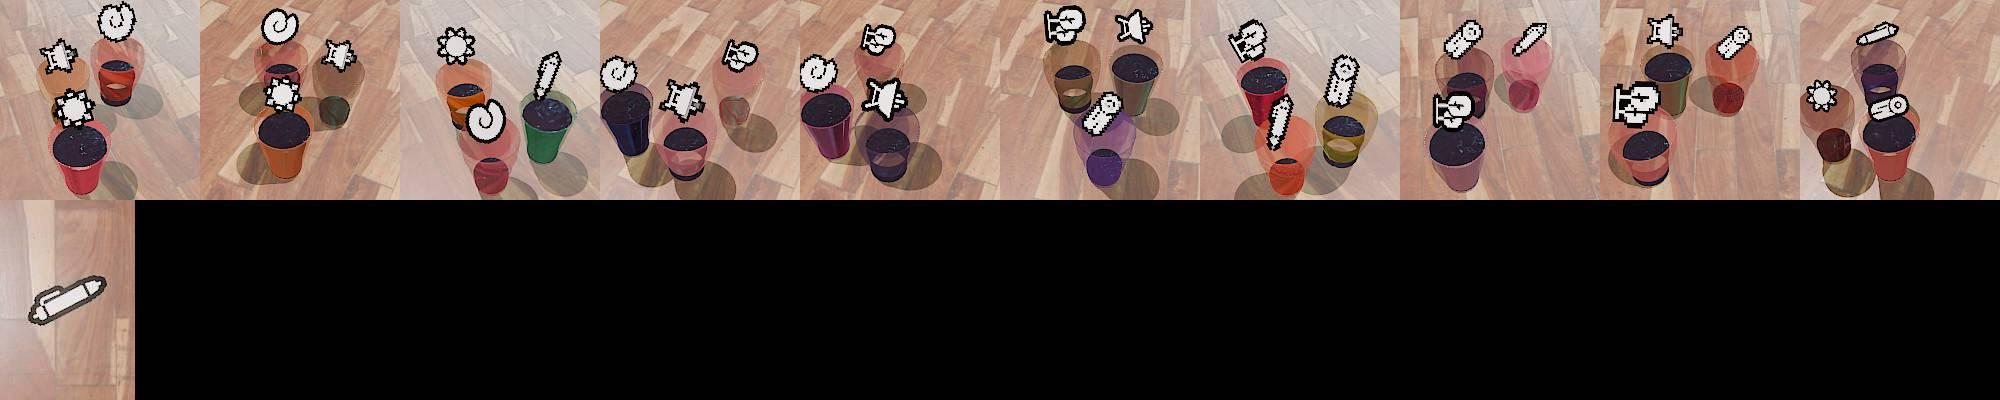icon: (25, 271, 110, 329), (1612, 81, 1662, 126), (860, 75, 907, 122), (1079, 89, 1124, 136), (658, 76, 705, 121), (1324, 51, 1360, 107), (466, 97, 507, 143), (51, 87, 98, 127), (1442, 17, 1484, 61), (1264, 92, 1294, 152), (1042, 4, 1087, 44), (1228, 18, 1268, 63), (95, 2, 136, 44), (1433, 89, 1476, 129), (798, 52, 839, 93), (598, 54, 639, 94), (532, 49, 563, 101), (436, 26, 477, 65), (261, 74, 302, 113), (260, 7, 300, 46), (39, 37, 79, 74), (1511, 20, 1548, 57), (1114, 9, 1152, 45), (859, 21, 897, 56), (1645, 13, 1681, 49), (1716, 24, 1753, 59), (721, 39, 759, 73), (321, 38, 357, 73), (1866, 93, 1909, 122), (1805, 78, 1840, 113), (1857, 20, 1901, 47)
